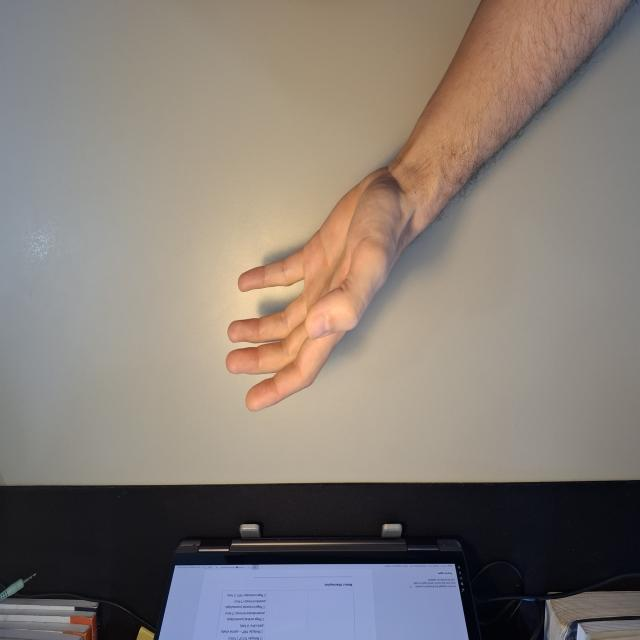glove_off: (224, 164, 408, 416)
